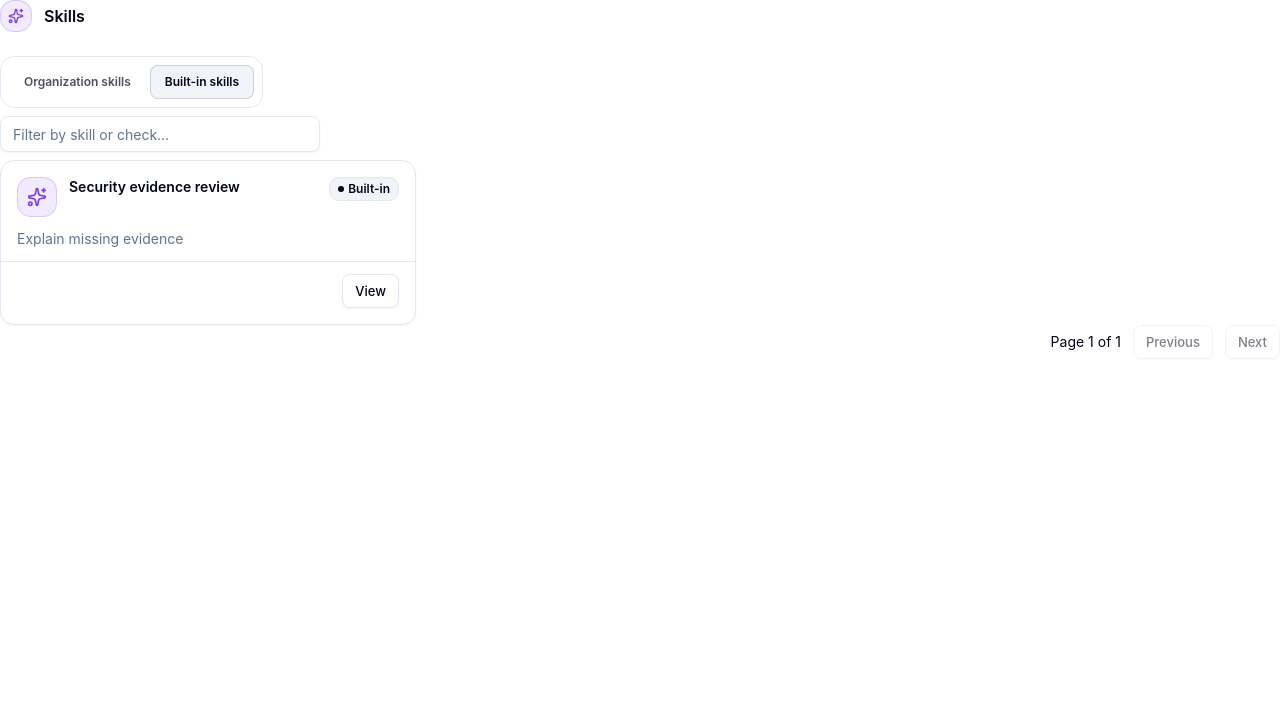
lets developers preview built-in instructions without editing or enabling them
What coordinates should you click on to do the following:
click the button with aria-label "View Security evidence review"
I would click on:
 (371, 291)
Its box is x1=342 y1=274 x2=399 y2=308.
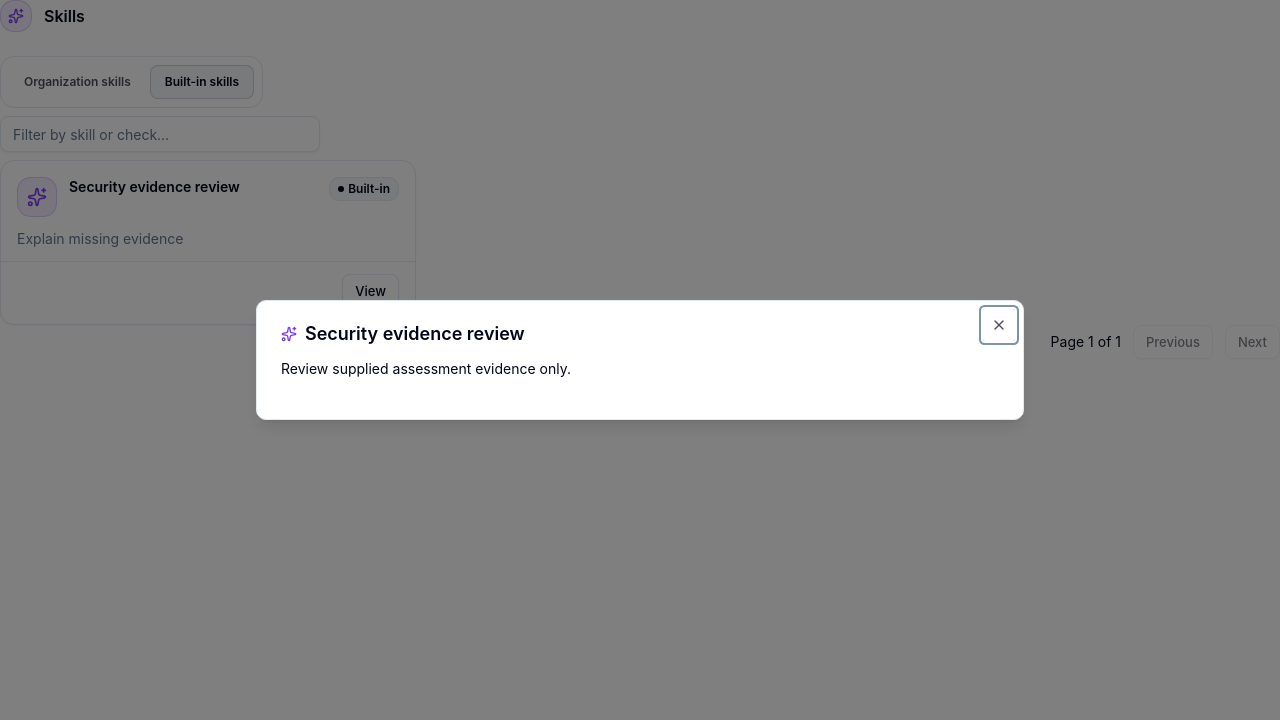
Check: the dialog is shown, box x1=256 y1=300 x2=1024 y2=420
Check: the text "Review supplied assessment evidence only." is shown, box x1=281 y1=360 x2=571 y2=377
